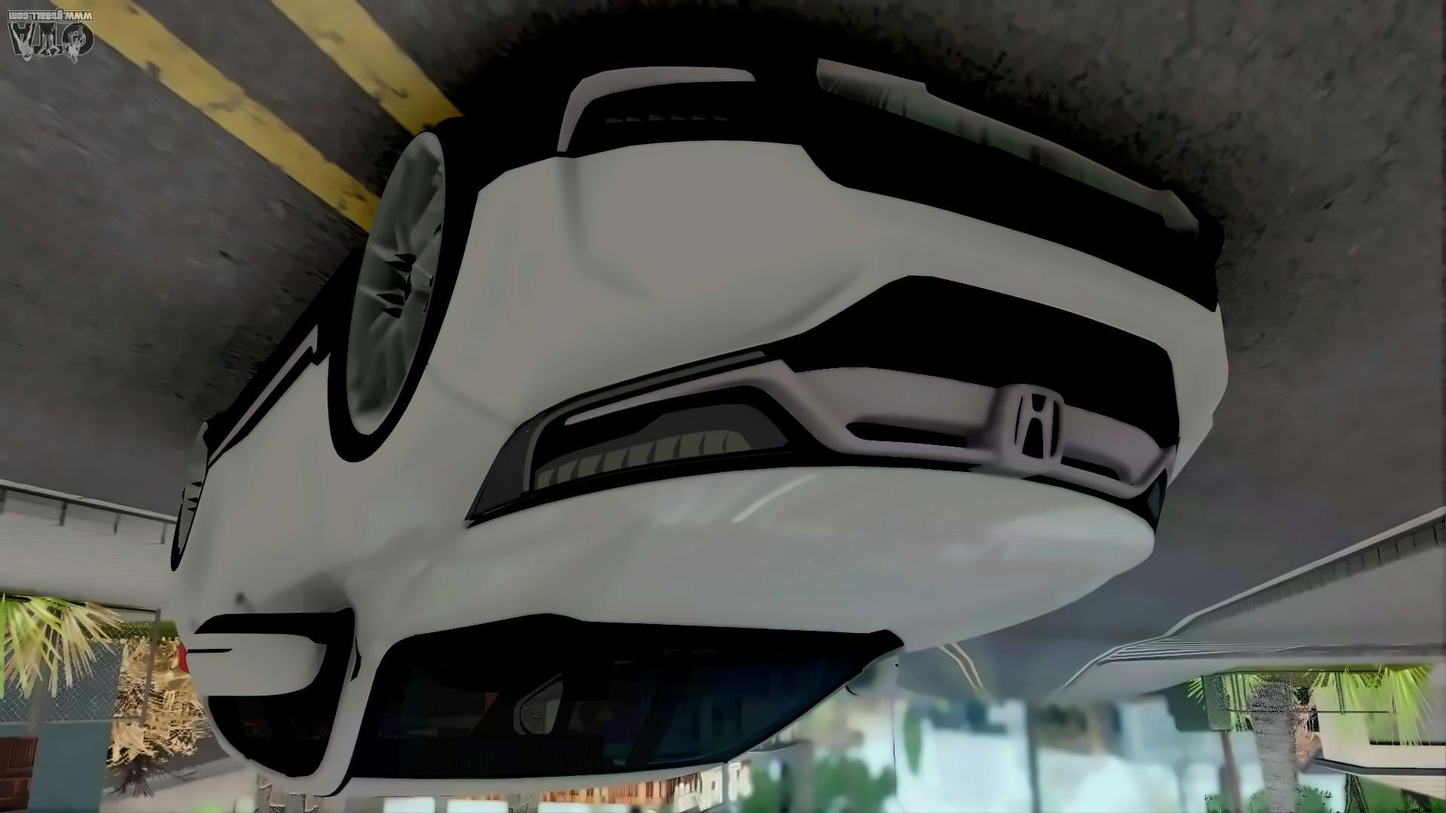Car hood: (465, 457, 1163, 645)
Fender - -F-L-: (312, 190, 500, 659)
Front bumper: (468, 40, 1251, 414)
Headlight - -L-: (470, 338, 806, 550)
Passenger-s door - -F-L-: (222, 228, 363, 813)
Passenger-s door - -R-L-: (179, 299, 278, 777)
Side bumper - -L-: (204, 234, 383, 476)
Side mirror - -L-: (182, 622, 325, 703)
